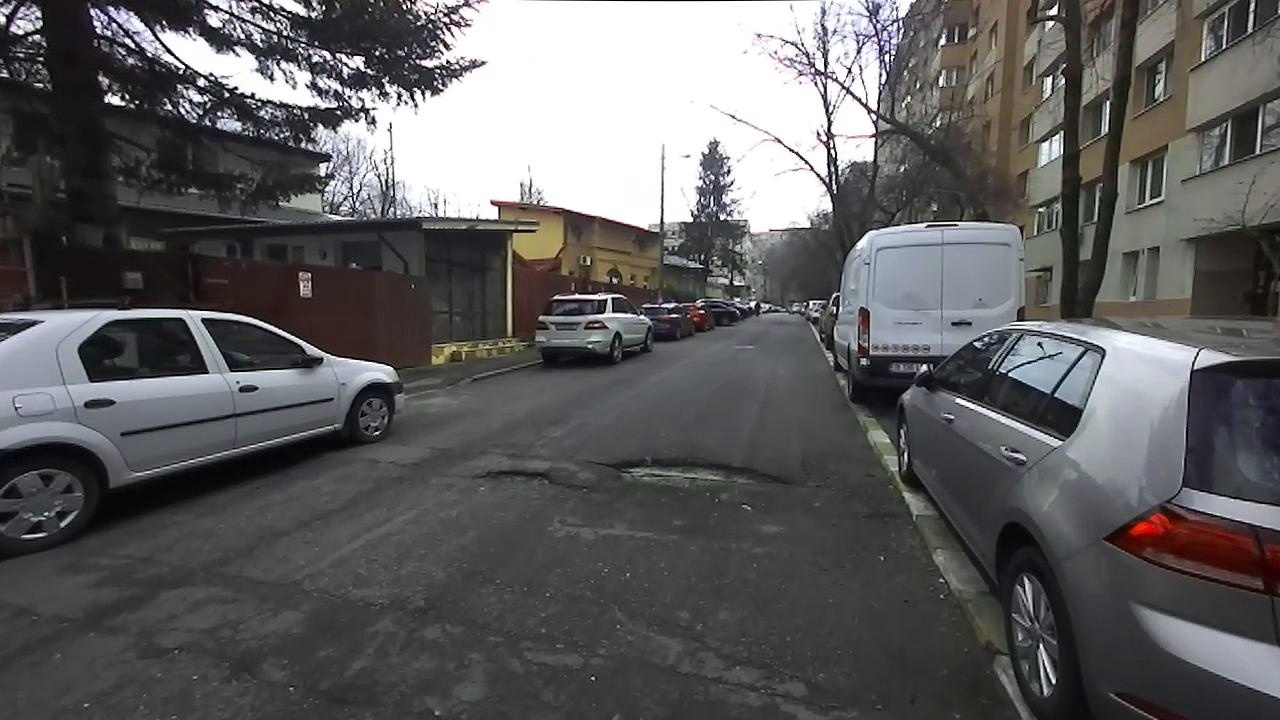pothole: (594, 454, 795, 496), (470, 465, 577, 493)
